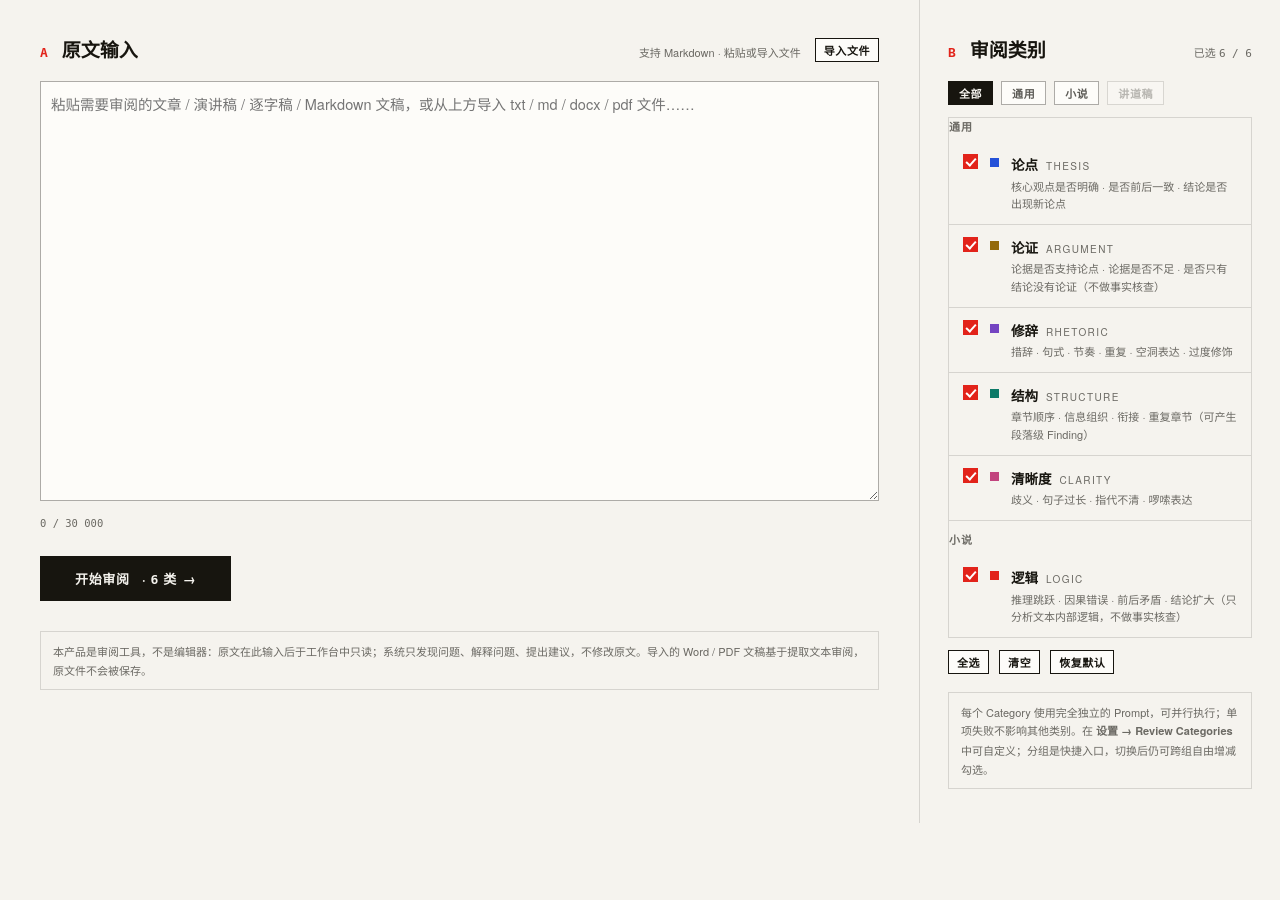
Test: 组切换器（spec: review-ui 类别选择） › 切组替换勾选：点「小说」= 勾选集替换为小说组 enabled 全集，此前勾选清除（spec: 切组替换勾选）
This screenshot has width=1280, height=900.
expect the number of checkboxes is 6: met, box [963,154,978,170]; [963,237,978,252]; [963,320,978,334]; [963,385,978,400]; [963,468,978,483]; [963,567,978,582]
Click the button with test id "group-tab-g:general" at (1024, 93), box [1001,81,1046,105]
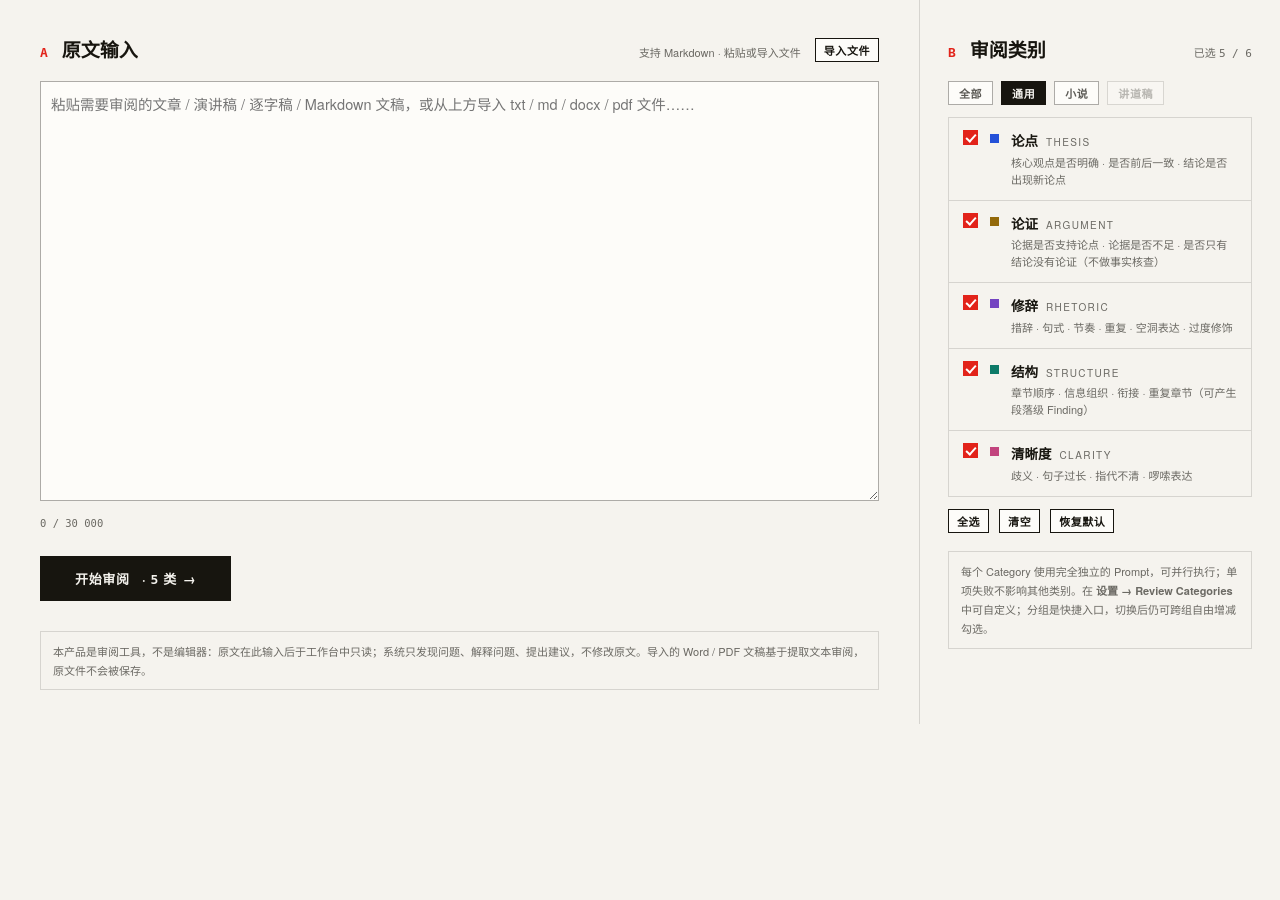
expect the number of checkboxes is 5: met, box [963,130,978,145]; [963,213,978,228]; [963,295,978,310]; [963,361,978,376]; [963,443,978,458]
# 切小说：勾选整体替换为小说组全集（仅 logic）
Click the button with test id "group-tab-" at (1077, 93), box [1054,81,1099,105]
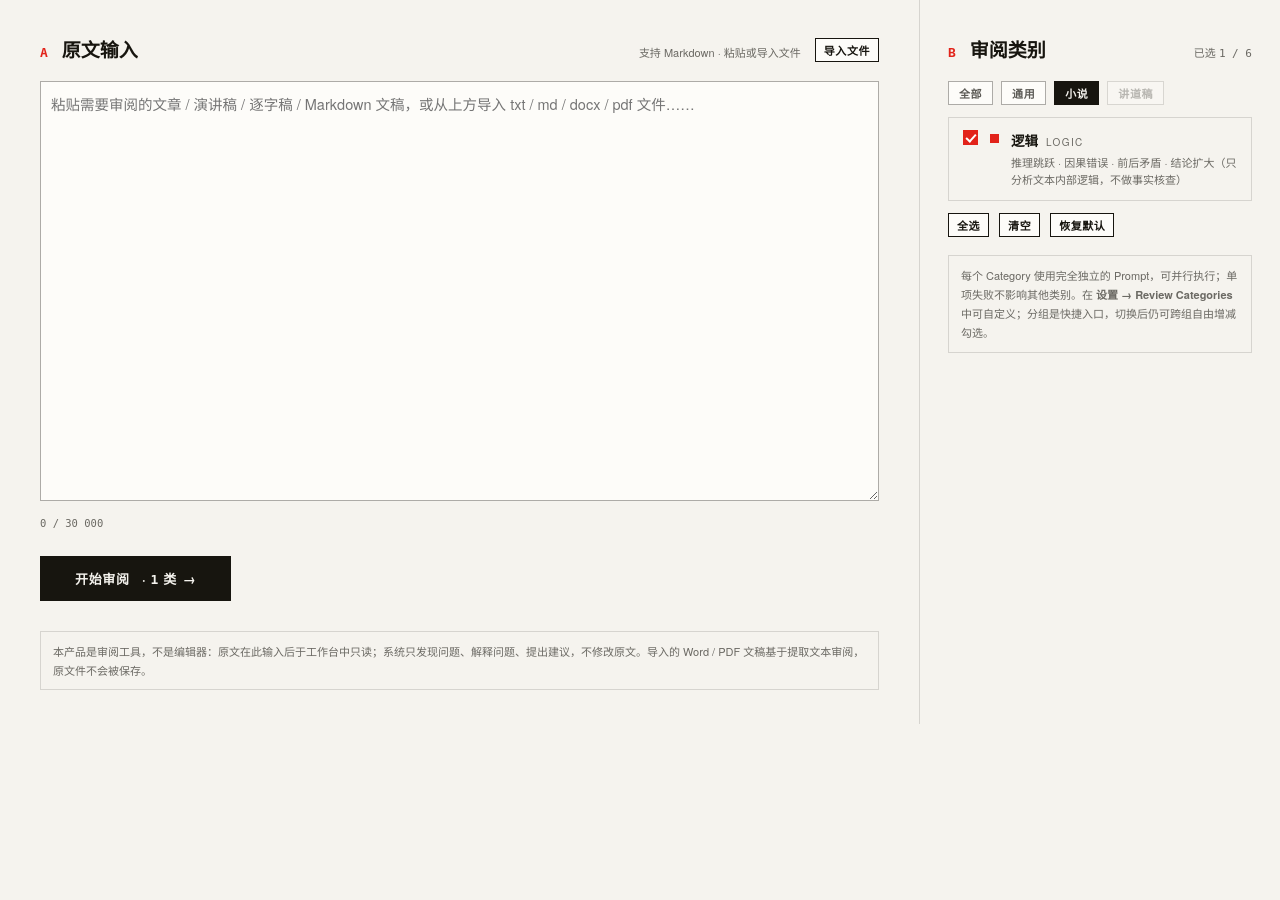
expect the checkbox is checked: met, box [963,130,978,145]
expect the number of labels with class "catrow" is 1: met, box [949,118,1251,200]
expect the label with class "catrow" shows "逻辑": met, box [1011,131,1038,150]
